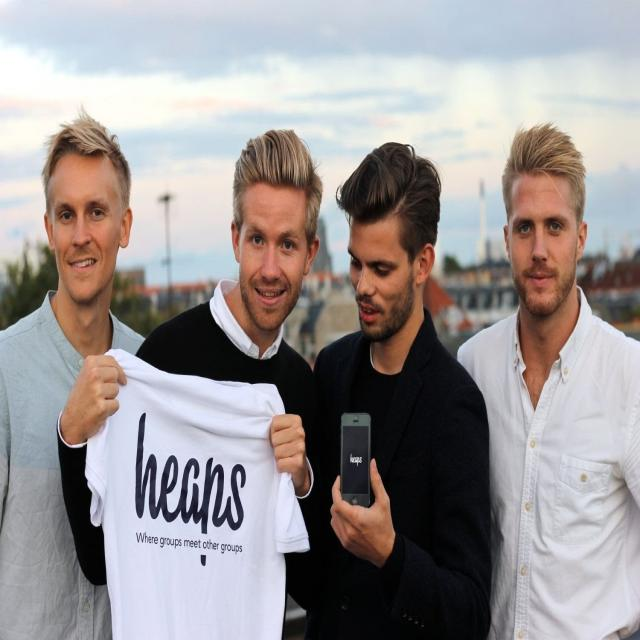body: (53, 124, 327, 636), (454, 119, 640, 640), (306, 138, 493, 640), (0, 101, 145, 639), (297, 265, 330, 367)
